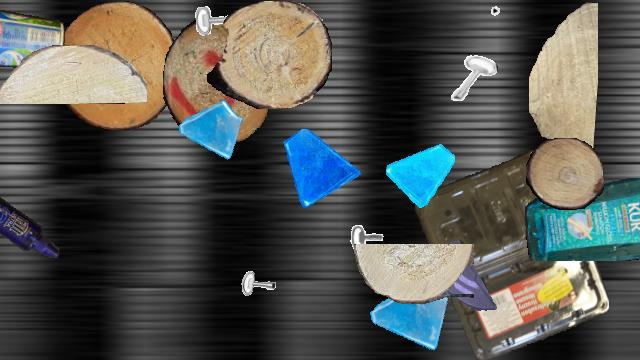glass: (368, 275, 452, 359), (281, 129, 361, 209), (422, 234, 502, 314), (177, 97, 245, 165), (386, 139, 454, 207)
metal: (189, 1, 249, 61), (235, 247, 287, 299), (447, 52, 497, 102), (348, 206, 394, 252), (490, 1, 530, 41)
plastic: (415, 149, 609, 359), (525, 178, 640, 260), (0, 1, 64, 71), (0, 184, 59, 258)
wood: (55, 1, 179, 129), (207, 1, 331, 109), (163, 20, 271, 142), (529, 1, 597, 159), (0, 45, 146, 103), (354, 244, 474, 304), (526, 138, 604, 210)
